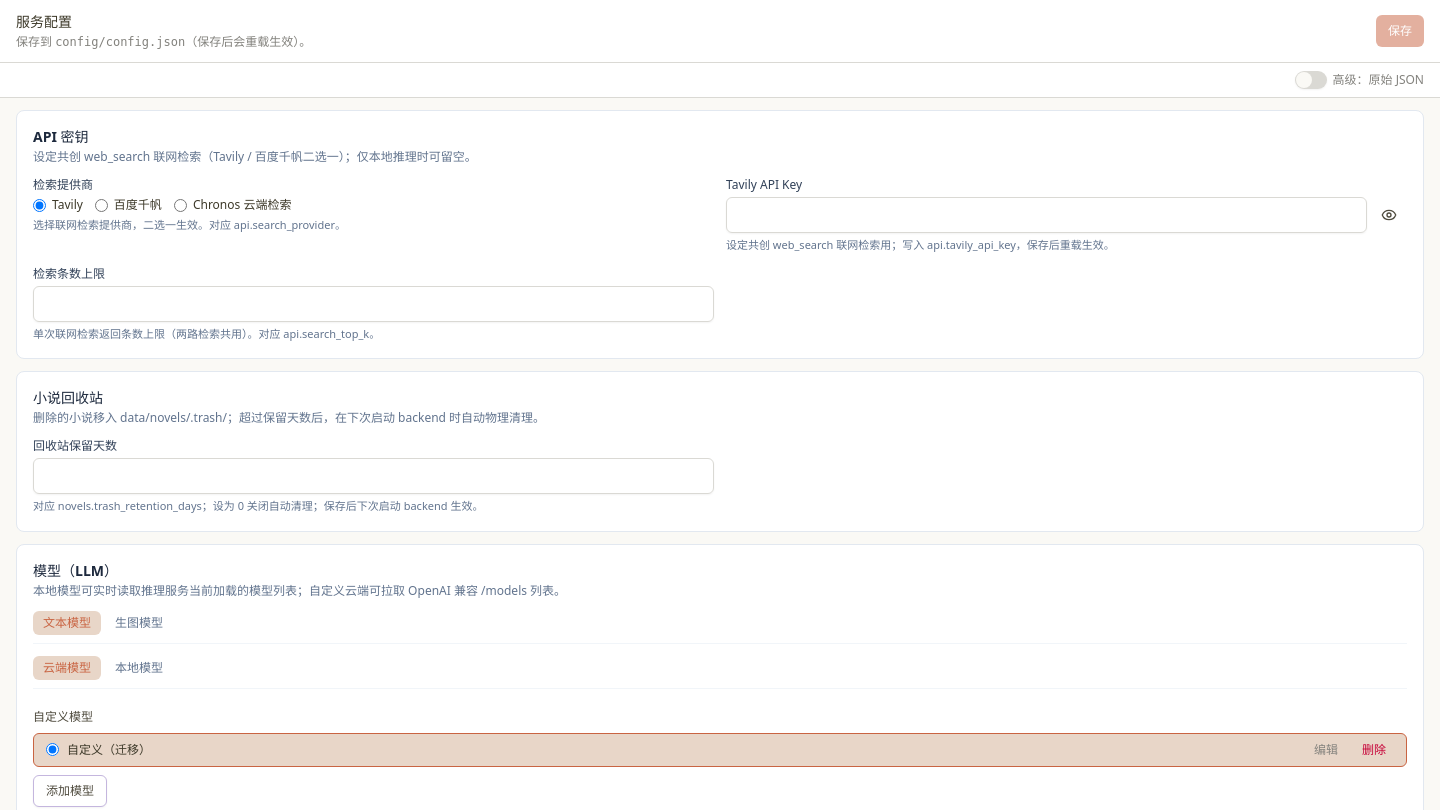
it: ServiceConfigPage model tabs › 模型列表支持搜索过滤
Expected: the text "自定义（迁移）" is shown, [67,742,151,758]
Step 1. Click the button "编辑" → (1326, 750), box [1306,742,1346,758]
(page scrolled)
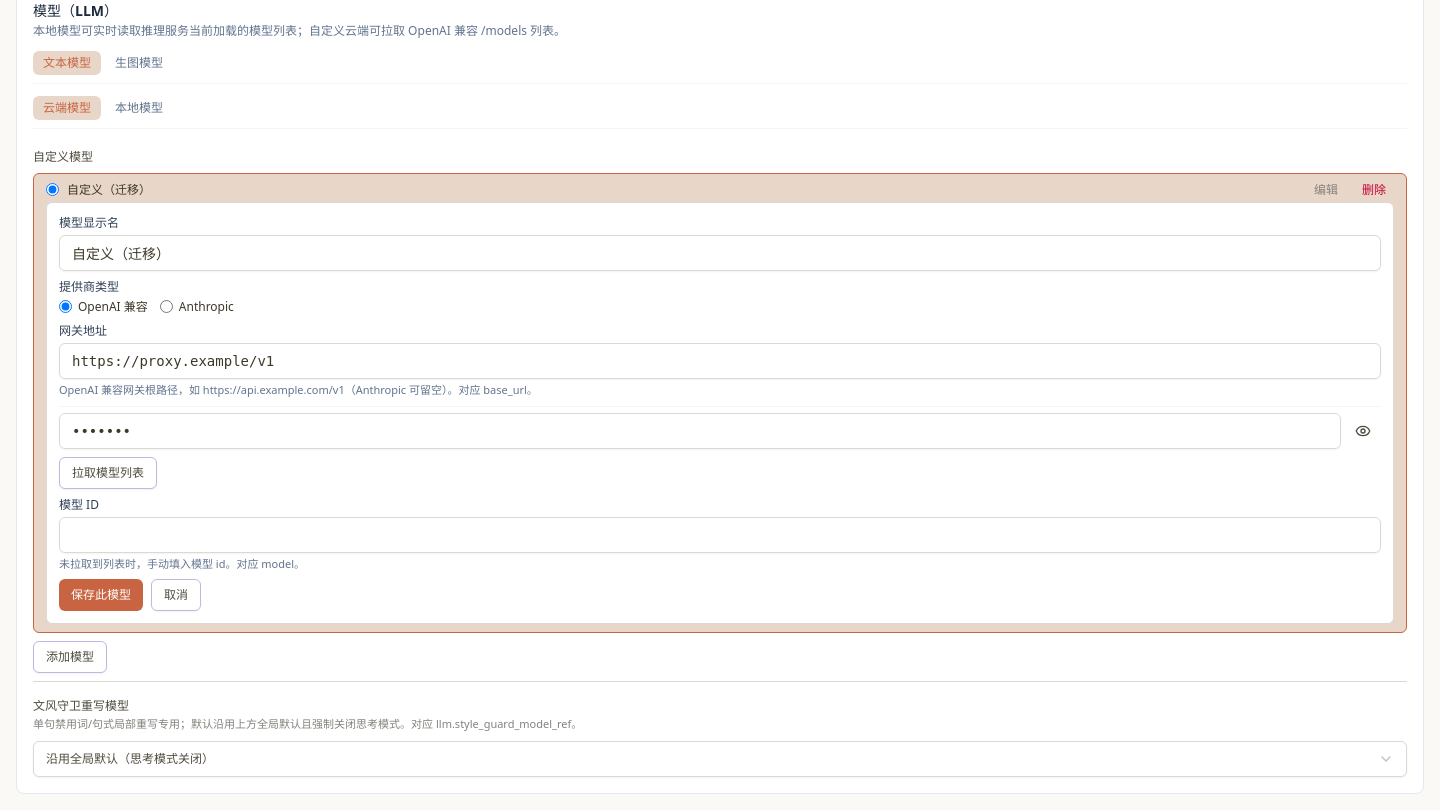
Now the button "拉取模型列表" is shown
Step 2. Click the button "拉取模型列表" → (108, 472), box [59,456,157,488]
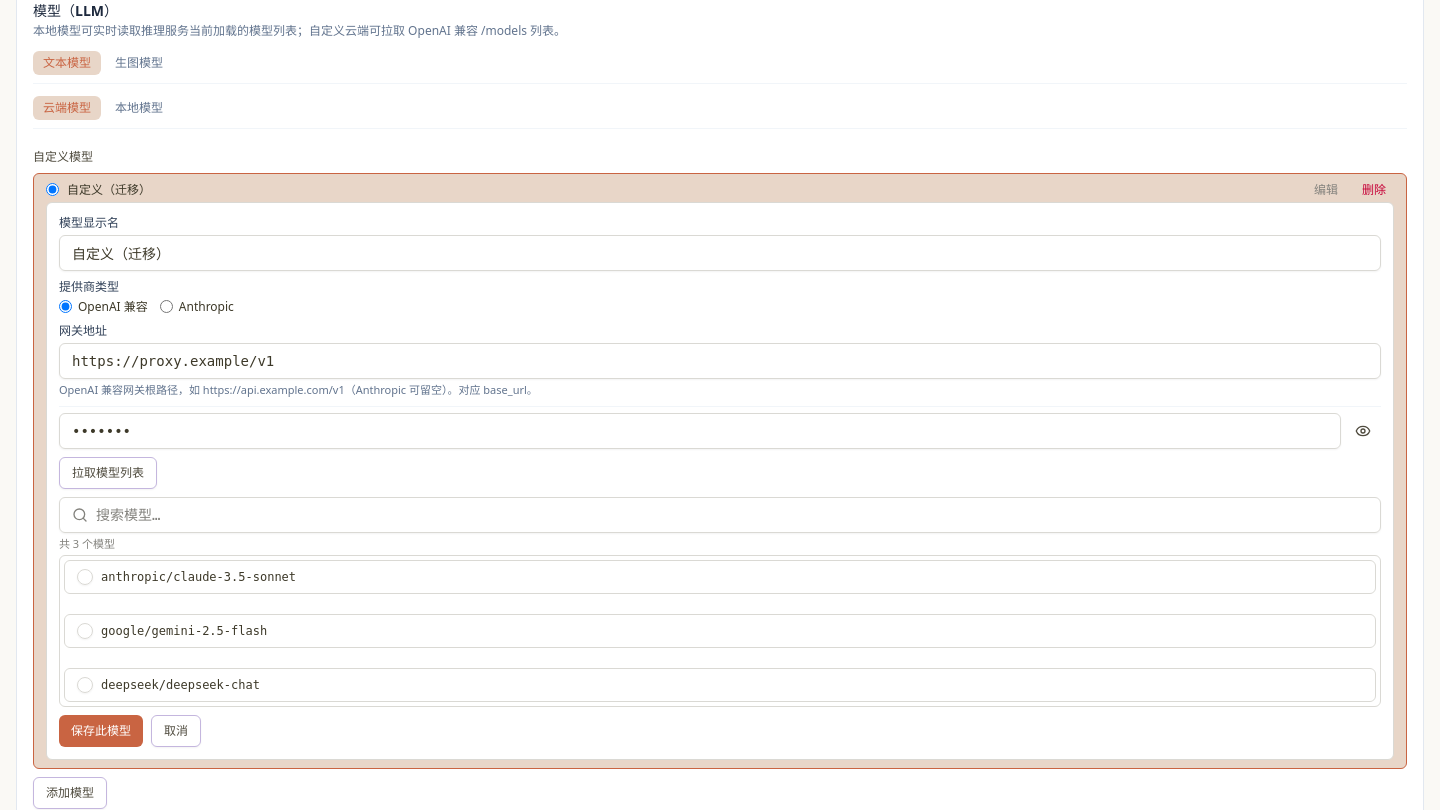
Now the text "anthropic/claude-3.5-sonnet" is shown, box [101,569,296,585]
Step 3. Type "gemini" into the search field labelled "搜索模型" → (734, 514), box [88,496,1380,532]
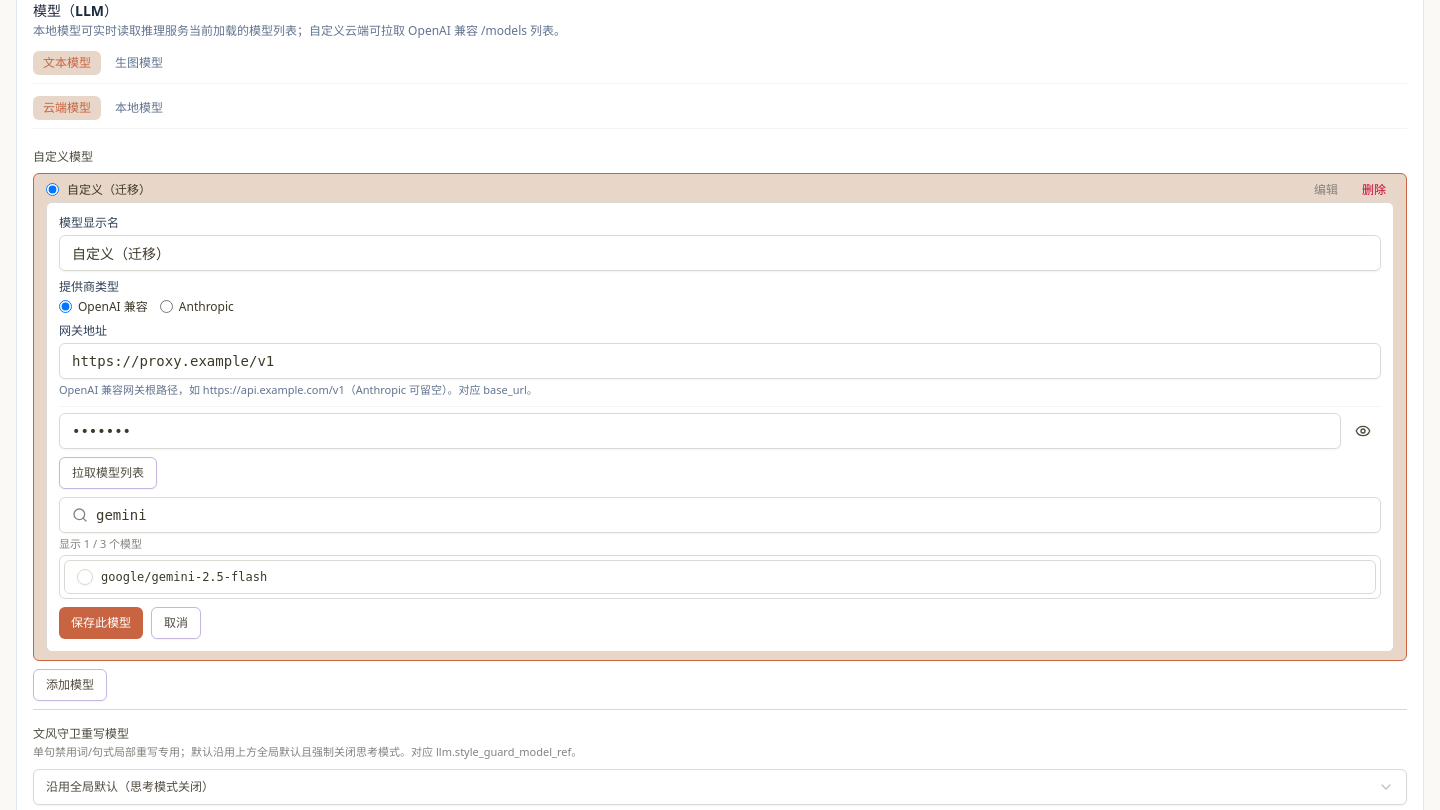
Now the text "google/gemini-2.5-flash" is shown, box [101,569,267,585]
Now the text "anthropic/claude-3.5-sonnet" is gone
Now the text "显示 1 / 3 个模型" is shown, box [59,536,142,550]
